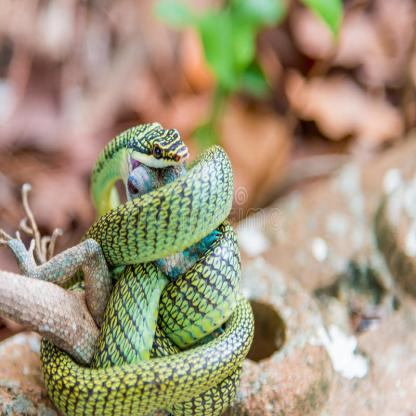Snake: (35, 119, 253, 416)
